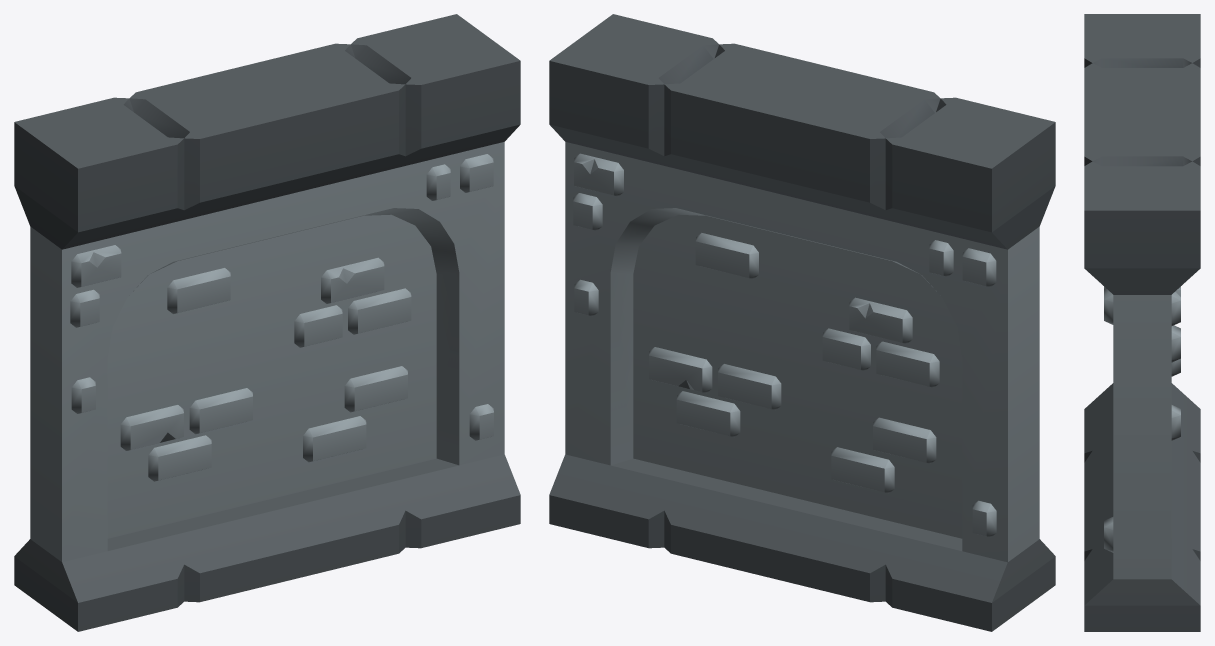
File: wall_arched.glb
3 renders of one model, left to right at view 1: azimuth 30°, elevation 25°; view 2: azimuth 150°, elevation 25°; view 3: azimuth 270°, elevation 25°, orthographic. The views are drawn at different scales.
Visible parts, largest first — view 1: wall_arched; view 2: wall_arched; view 3: wall_arched.
Boxes of the visible parts, x1,y1,x2,y2 form: wall_arched: (14, 14, 520, 631); wall_arched: (549, 14, 1055, 631); wall_arched: (1084, 14, 1200, 631).
Size of the model in its own units: 2 by 2 by 0.5.
Materials: 1 (1 with a texture image).
